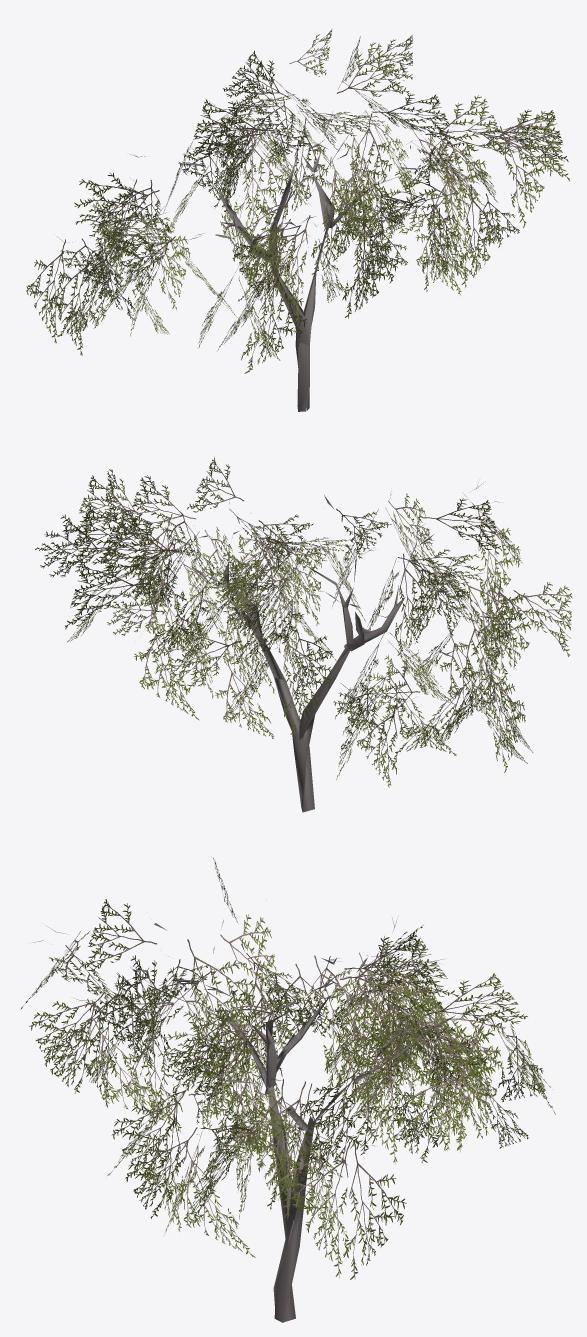
Rendered from accacia_feuillage2_l1.glb.
The picture shows the model from 3 angles, top to bottom: view 1: azimuth 30°, elevation 25°; view 2: azimuth 150°, elevation 25°; view 3: azimuth 270°, elevation 25°; orthographic projection. The views are drawn at different scales.
Visible parts, largest first — view 1: acacia branch_1, bark05_0; view 2: acacia branch_1, bark05_0; view 3: acacia branch_1, bark05_0.
Boxes of the visible parts, box(x1,y1,x2,y2) form: acacia branch_1: box(26, 28, 569, 373); bark05_0: box(54, 76, 519, 411); acacia branch_1: box(35, 457, 572, 787); bark05_0: box(91, 481, 504, 812); acacia branch_1: box(20, 858, 555, 1279); bark05_0: box(33, 918, 491, 1322).
Size of the model in its own units: 11.61 by 6.91 by 8.54.
Materials: 2 (1 with a texture image).
